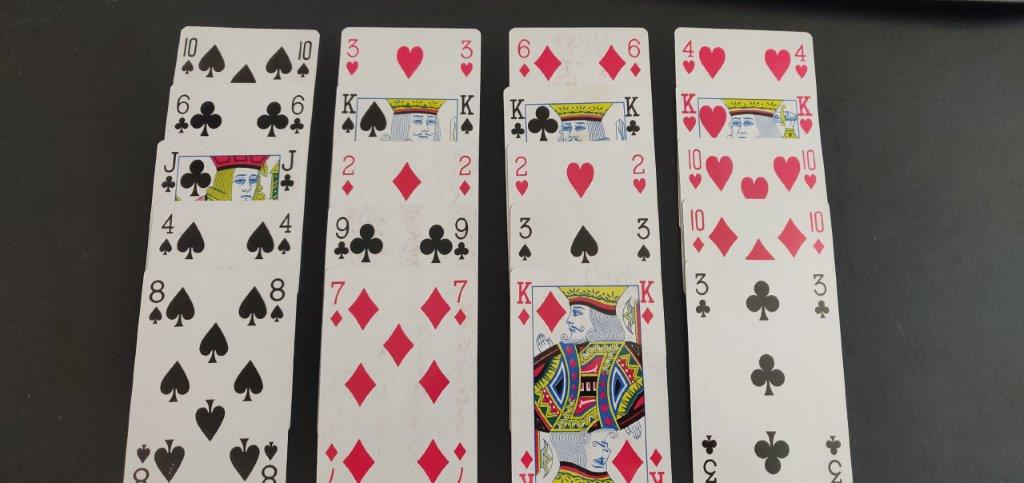10D: (684, 203, 714, 261), (804, 205, 833, 259)
10H: (683, 144, 710, 196), (796, 145, 824, 193)
10S: (171, 30, 204, 78), (290, 35, 318, 84)
2D: (452, 150, 476, 200), (336, 151, 359, 201)
2H: (623, 148, 653, 199), (509, 151, 537, 203)
3C: (686, 266, 718, 327), (806, 265, 837, 326)
3H: (340, 33, 367, 82), (455, 35, 480, 81)
3S: (631, 213, 658, 266), (514, 212, 537, 267)
4H: (676, 35, 702, 81), (790, 39, 814, 82)
4S: (274, 209, 298, 262), (156, 208, 178, 261)
6C: (171, 86, 194, 137), (286, 90, 308, 139)
6D: (511, 35, 539, 84), (622, 33, 650, 80)
7D: (325, 274, 350, 337), (449, 275, 473, 331)
8S: (263, 274, 291, 329), (145, 276, 170, 330)
9C: (331, 211, 355, 267), (449, 214, 473, 263)
JC: (276, 145, 300, 199), (159, 147, 183, 197)
KC: (620, 89, 648, 143), (504, 93, 532, 143)
KD: (511, 274, 539, 335), (634, 273, 662, 333)
KH: (793, 88, 820, 137), (677, 88, 705, 135)
KS: (337, 86, 361, 137), (455, 90, 478, 141)
